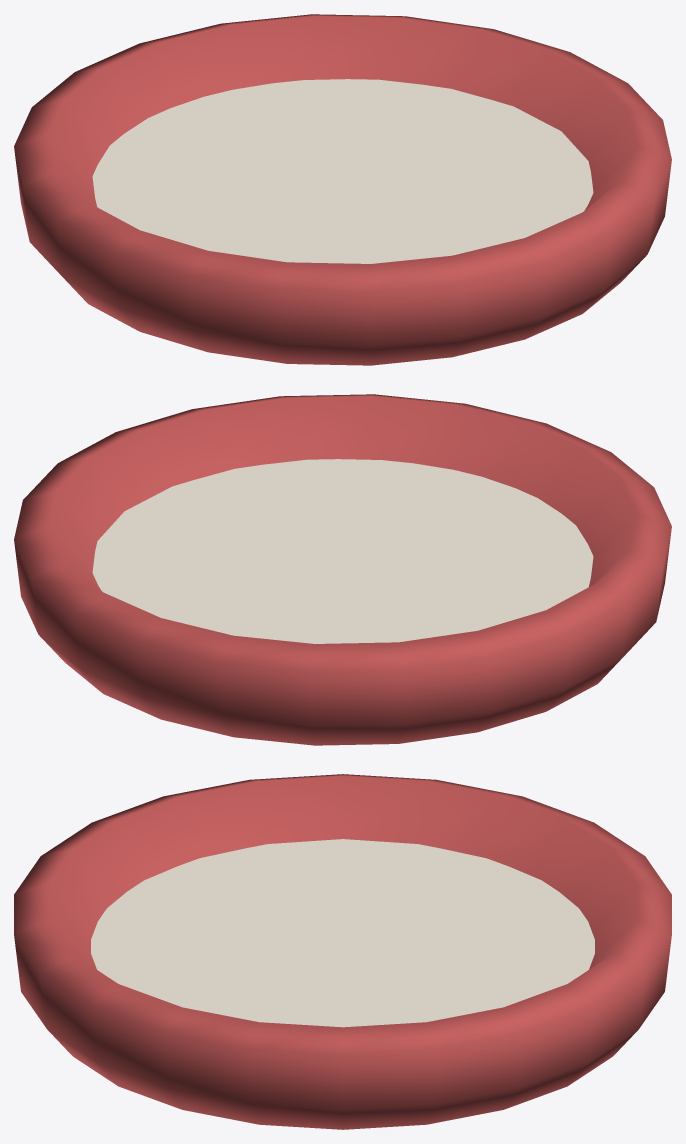
Rendered from dog_bed.glb.
The picture shows the model from 3 angles, top to bottom: view 1: azimuth 30°, elevation 25°; view 2: azimuth 150°, elevation 25°; view 3: azimuth 270°, elevation 25°; orthographic projection.
Visible parts, largest first — view 1: dog_bed; view 2: dog_bed; view 3: dog_bed.
Boxes of the visible parts, bbox=[...] form: dog_bed: bbox=[14, 14, 671, 365]; dog_bed: bbox=[14, 394, 671, 745]; dog_bed: bbox=[14, 774, 671, 1129].
Size of the model in its own units: 0.94 by 0.16 by 0.9304.
